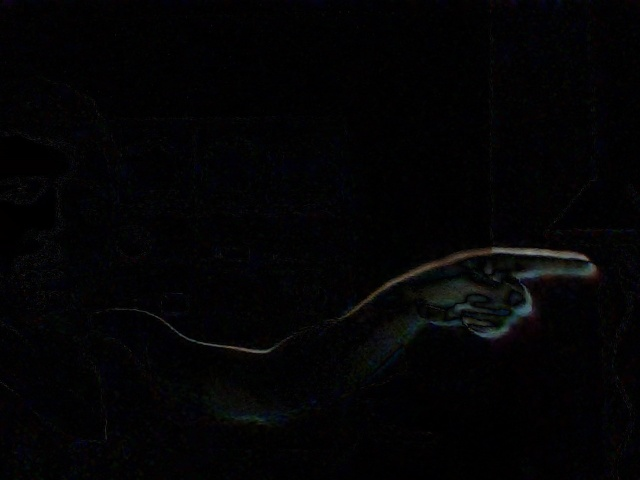hand_po: (401, 236, 606, 348)
